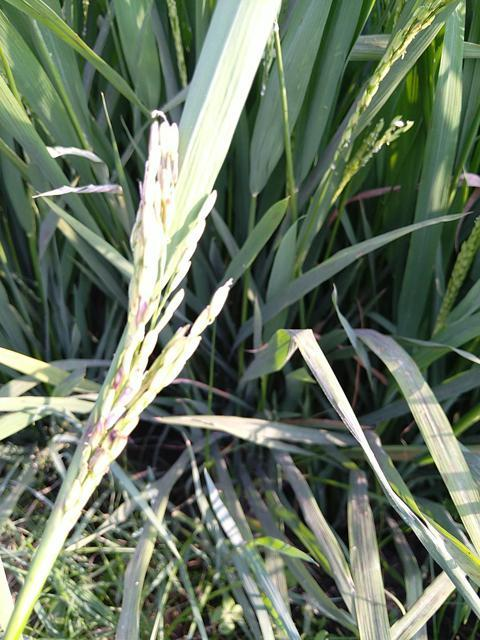Panicle Blight: (128, 117, 179, 336), (79, 417, 140, 503), (102, 348, 131, 401)
